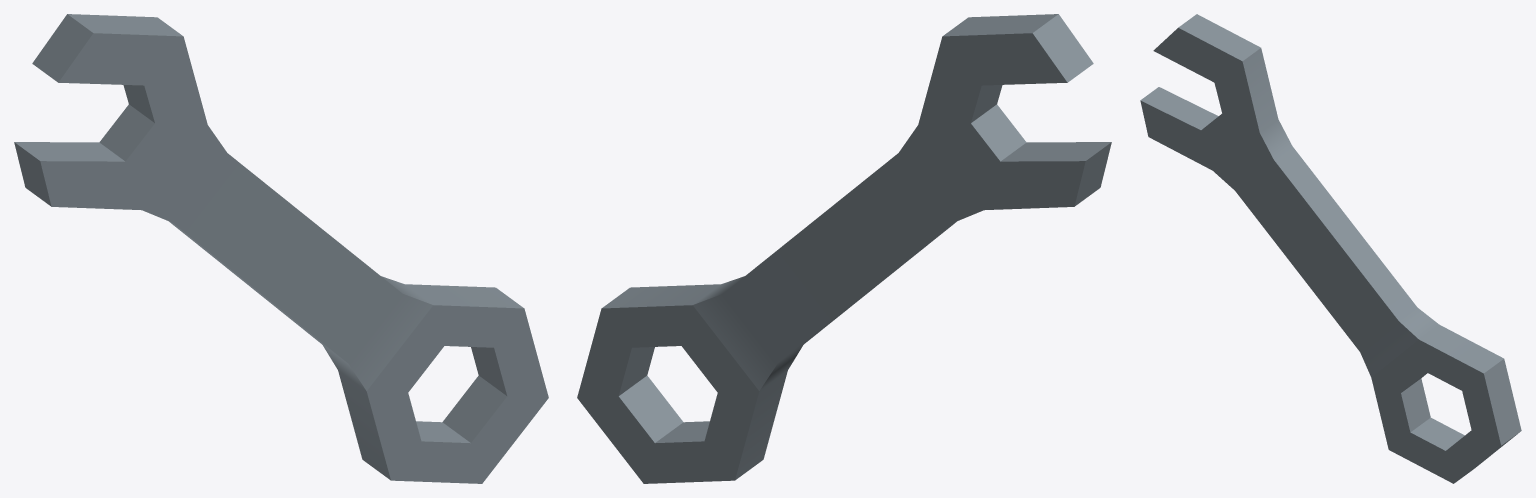
The model's file is FX_Repair_Mesh_01.fbx.
3 views of the same model, side by side, from view 1: azimuth 30°, elevation 25°; view 2: azimuth 150°, elevation 25°; view 3: azimuth 330°, elevation 25° (orthographic). The views are drawn at different scales.
Visible parts, largest first — view 1: FX_Repair_Mesh_01; view 2: FX_Repair_Mesh_01; view 3: FX_Repair_Mesh_01.
Boxes of the visible parts, x1,y1,x2,y2 form: FX_Repair_Mesh_01: (14,14,548,483); FX_Repair_Mesh_01: (577,14,1111,483); FX_Repair_Mesh_01: (1140,14,1521,483).
Bounding box in the file's own units: 23.89 × 24.5 × 2.34.
